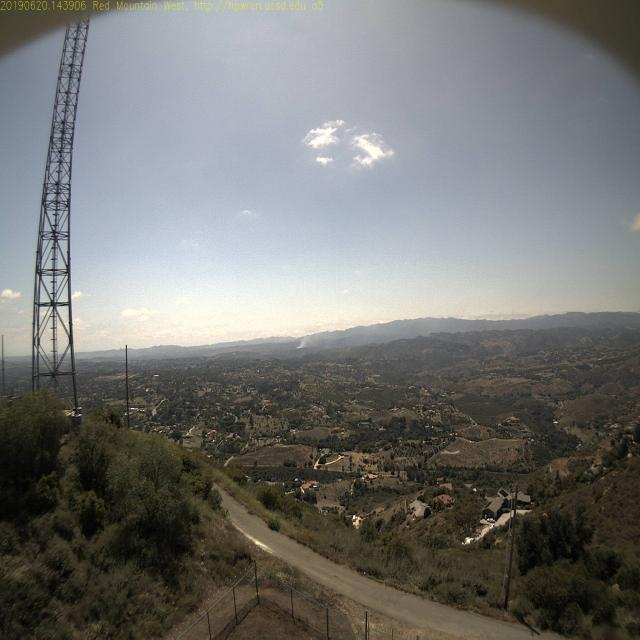smoke: (290, 328, 316, 358)
